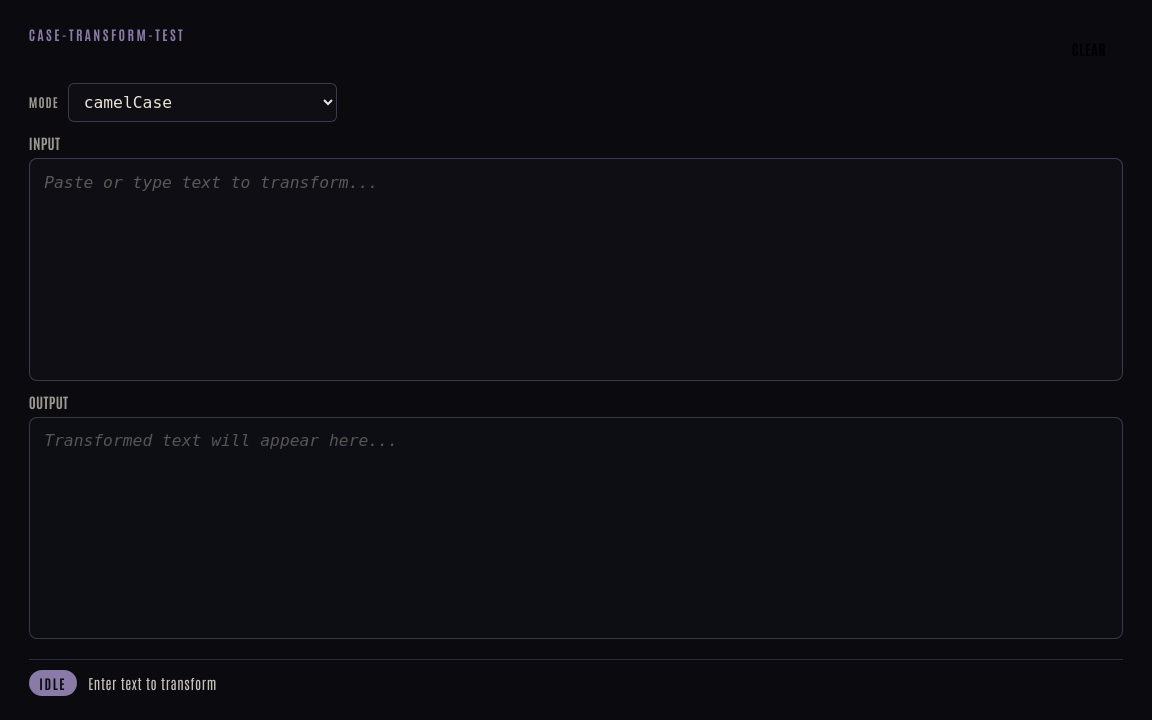
Scenario: CaseTransform › transforms to camelCase by default
The image size is (1152, 720).
Type "hello_world_test" into the text box named "Text input for case transformation" at (576, 270), box [29,158,1123,381]
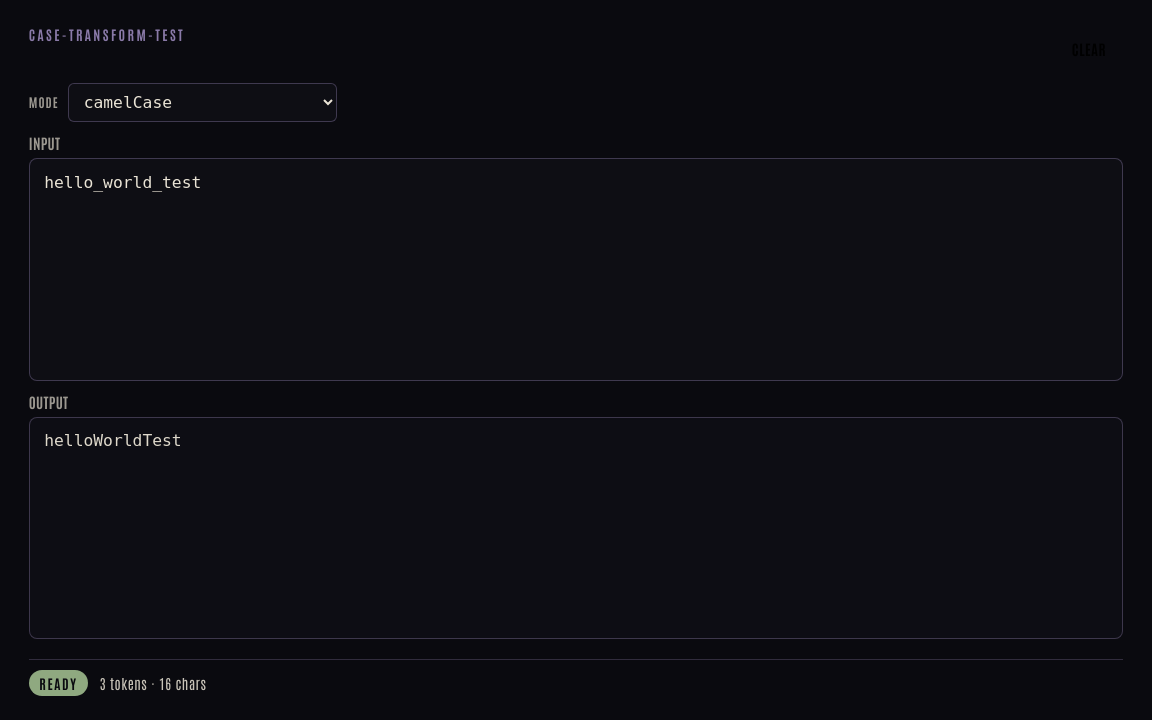
Now the text box named "Case-transformed text output" holds "helloWorldTest", box [29,417,1123,639]
